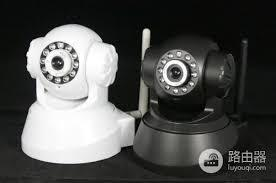maru: (26, 24, 117, 107), (142, 38, 235, 115)
